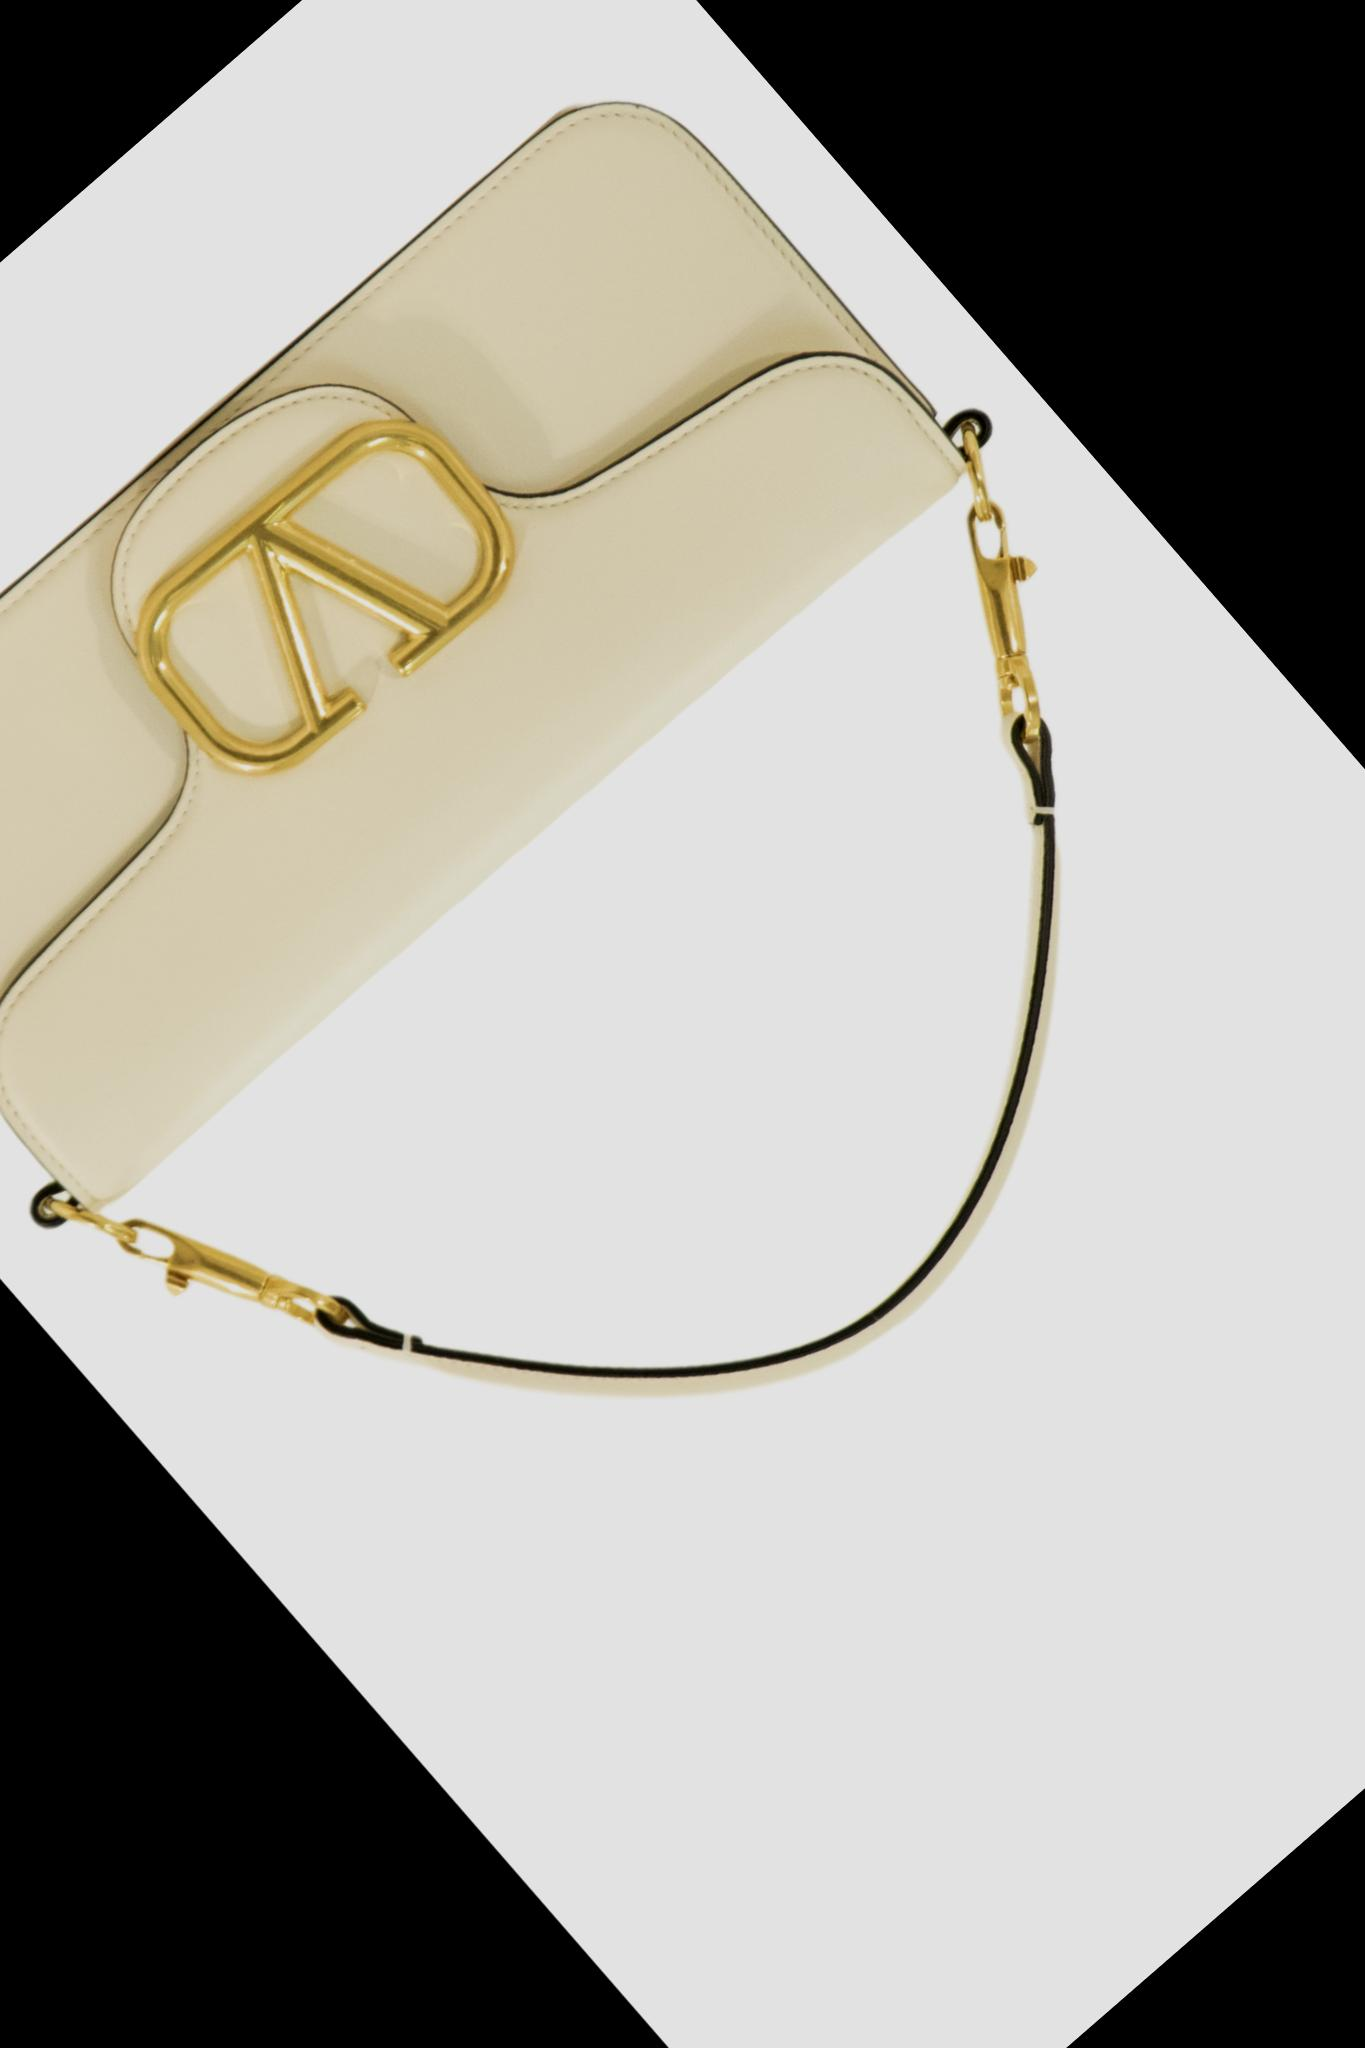VALENTINO: (101, 382, 545, 810)
